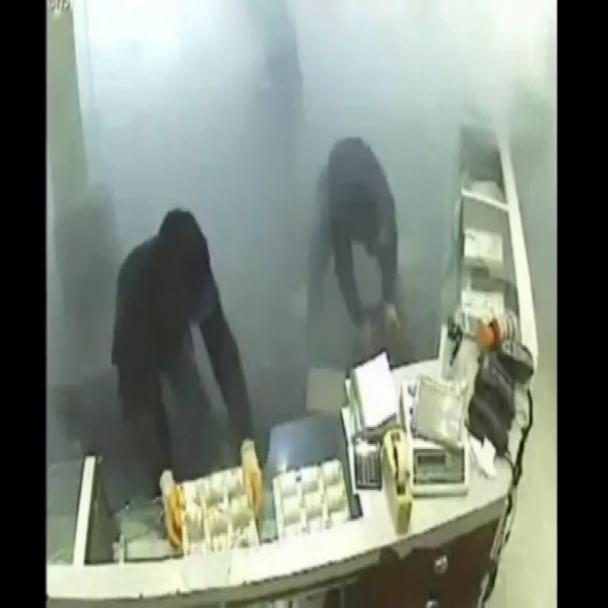smoke: (85, 0, 538, 410)
